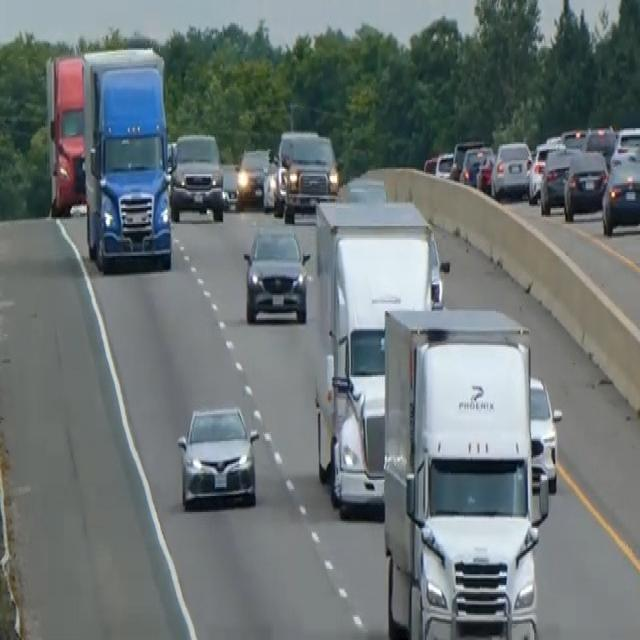car: (175, 404, 260, 510), (242, 220, 309, 324), (169, 130, 224, 222), (529, 373, 562, 491), (562, 147, 608, 220), (601, 154, 639, 234), (539, 144, 579, 213), (490, 139, 532, 199), (527, 137, 565, 203), (236, 146, 269, 206), (450, 137, 483, 179), (460, 144, 492, 187), (583, 125, 616, 164), (610, 125, 639, 167), (475, 149, 495, 194), (423, 149, 453, 178), (221, 162, 239, 210), (559, 126, 587, 151)
jeep: (274, 127, 339, 220)
lorry: (380, 303, 547, 636), (305, 196, 447, 514), (80, 44, 175, 272)
